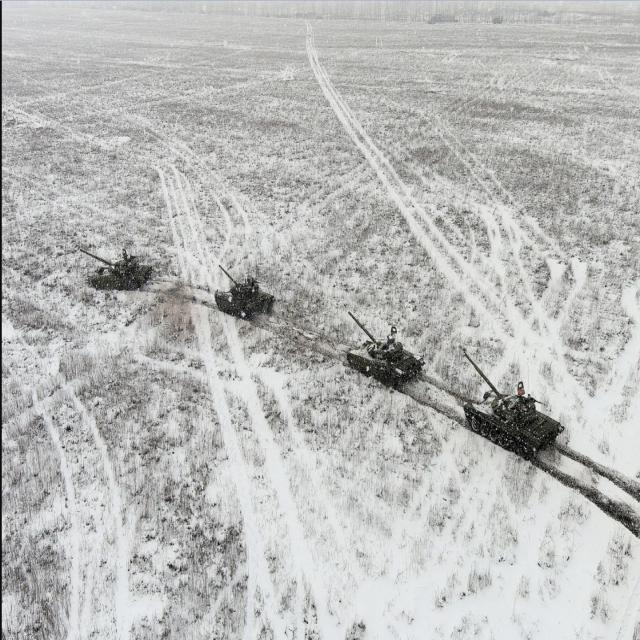tank: (455, 345, 566, 463), (344, 309, 425, 392), (210, 264, 280, 325), (78, 245, 155, 295)
